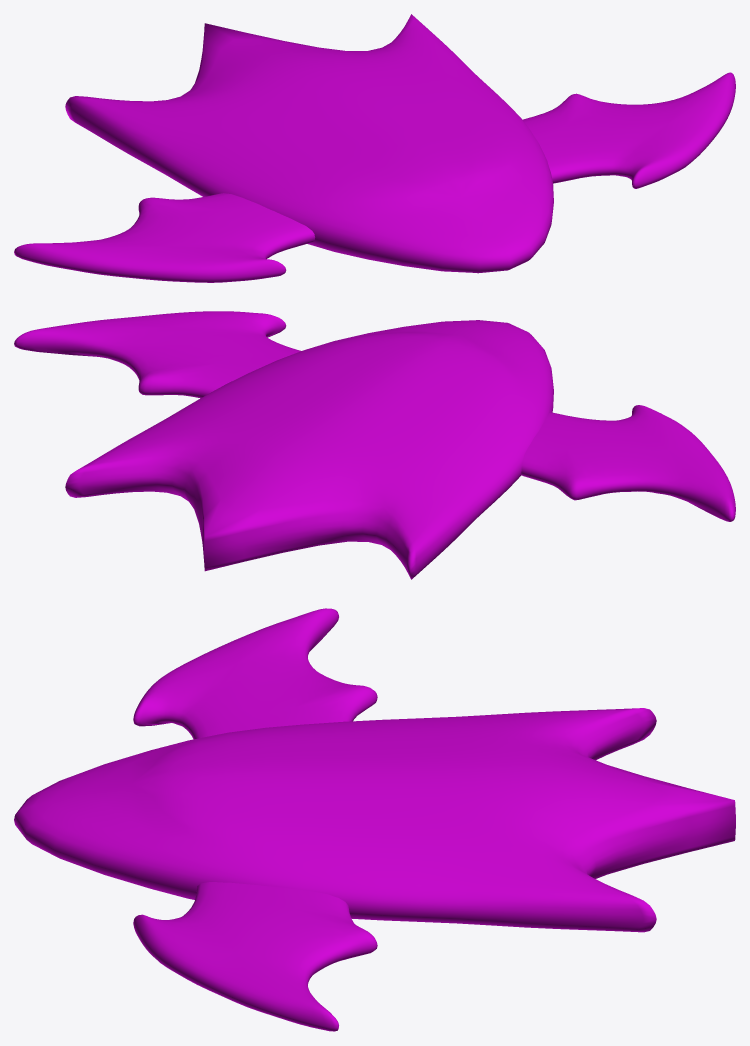
The model's file is Devilstar2.fbx.
3 views of the same model, one above another, from view 1: azimuth 30°, elevation 25°; view 2: azimuth 150°, elevation 25°; view 3: azimuth 270°, elevation 25° (orthographic). The views are drawn at different scales.
Parts seen in each view (by area): view 1: Plane, Plane.001; view 2: Plane, Plane.001; view 3: Plane, Plane.001.
Boxes of the visible parts, x1=… form: Plane: x1=65, y1=14, x2=553, y2=273; Plane.001: x1=14, y1=72, x2=735, y2=282; Plane: x1=65, y1=320, x2=553, y2=579; Plane.001: x1=14, y1=311, x2=735, y2=521; Plane: x1=14, y1=708, x2=735, y2=932; Plane.001: x1=133, y1=608, x2=377, y2=1031.
Bounding box in the file's own units: 5.29 × 0.5655 × 3.92.
